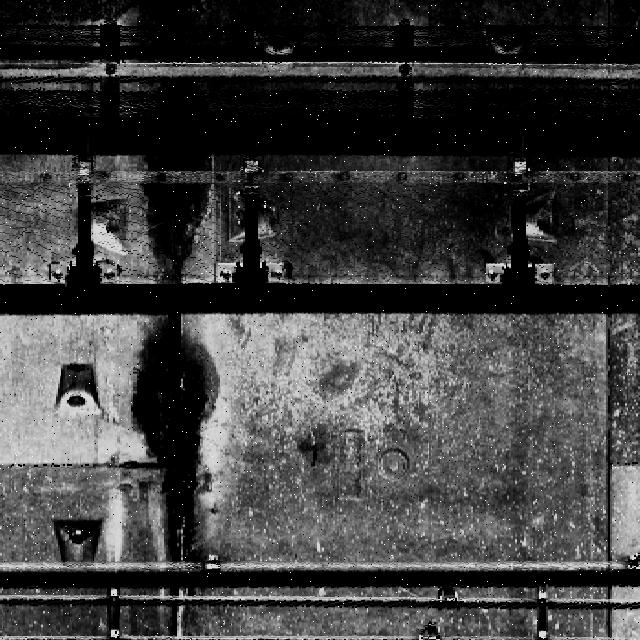leakage: (128, 4, 224, 567)
